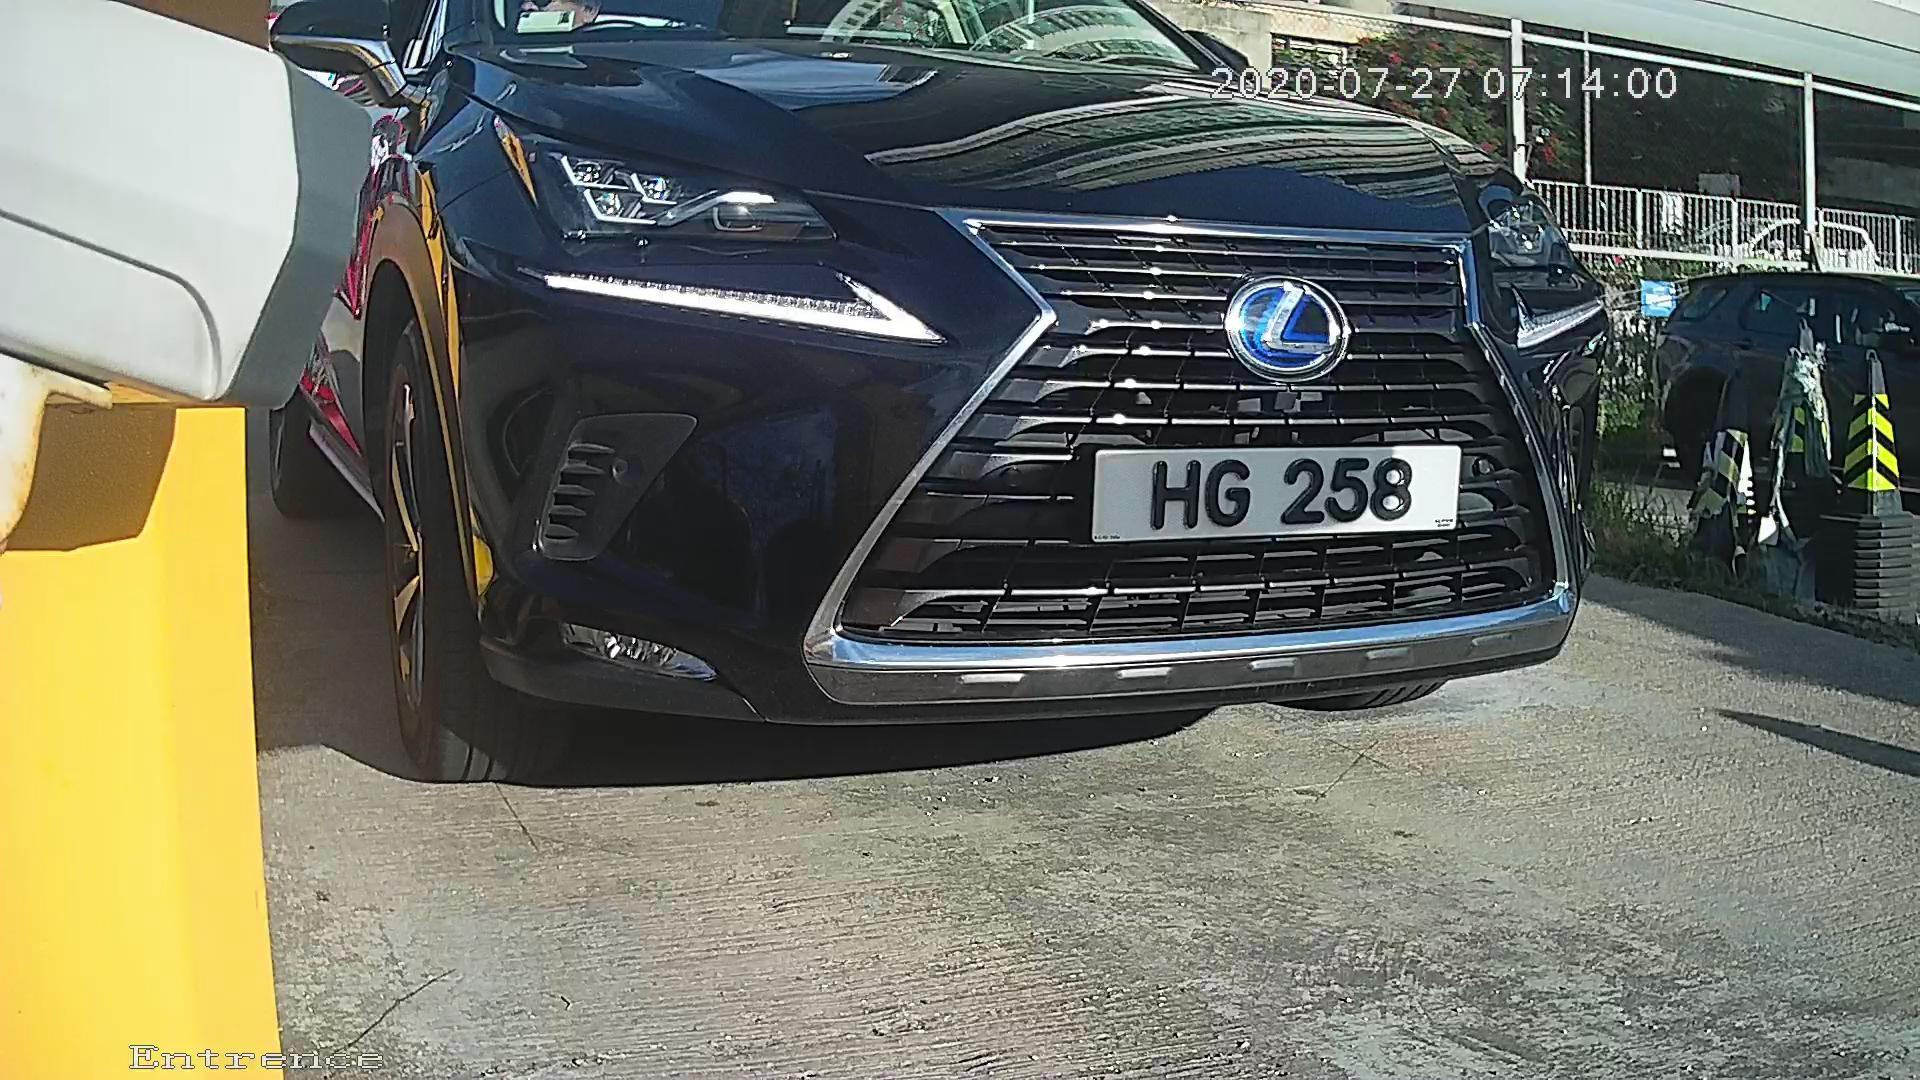License Plate: (1081, 420, 1475, 555)
